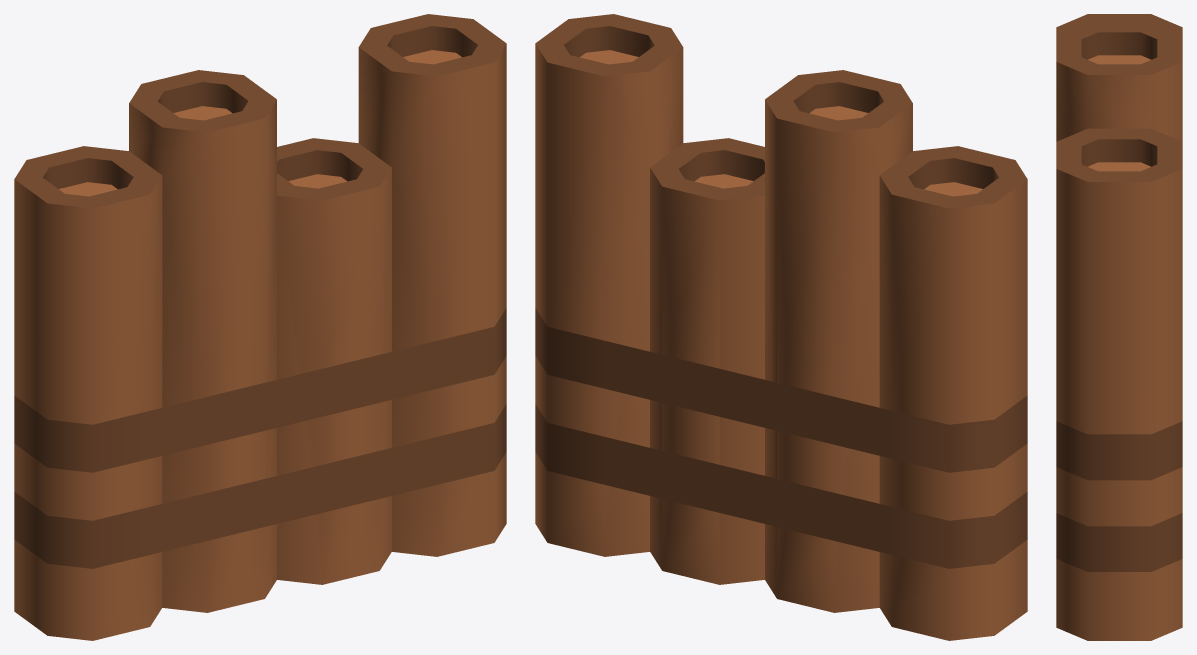
The model's file is poles.glb.
The picture shows the model from 3 angles, left to right: view 1: azimuth 30°, elevation 25°; view 2: azimuth 150°, elevation 25°; view 3: azimuth 270°, elevation 25°; orthographic projection. The views are drawn at different scales.
Parts seen in each view (by area): view 1: poles; view 2: poles; view 3: poles.
Boxes of the visible parts, bbox=[...] form: poles: bbox=[14, 14, 506, 640]; poles: bbox=[535, 14, 1027, 640]; poles: bbox=[1056, 14, 1182, 640].
Size of the model in its own units: 1 by 1 by 0.25.
